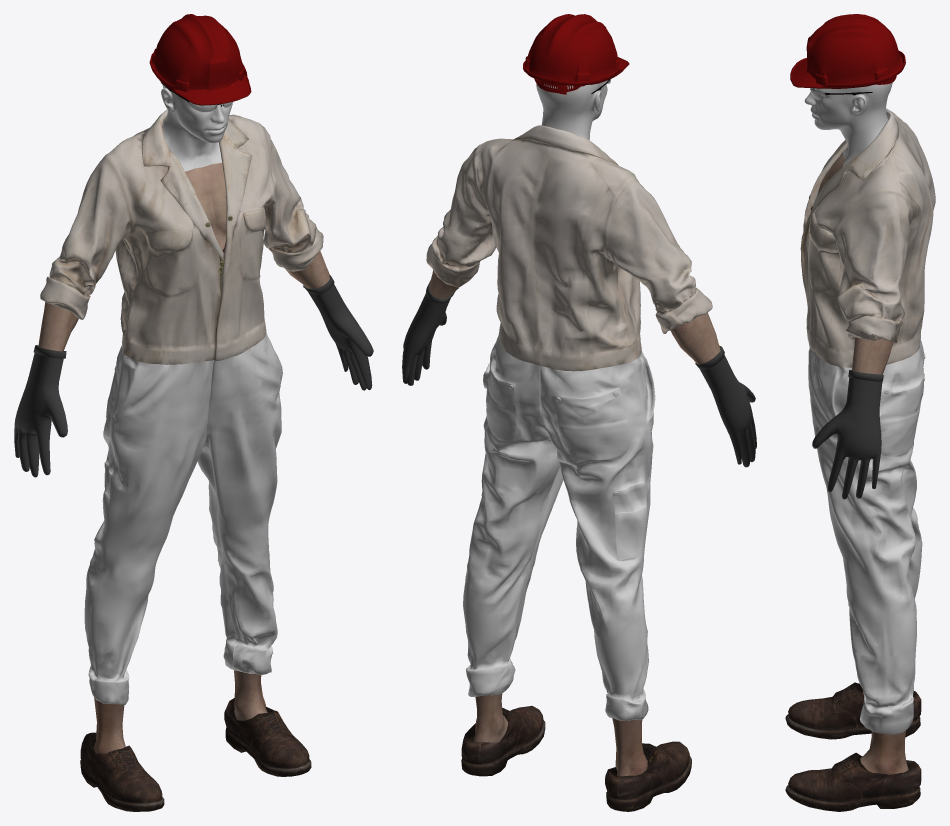
The model's file is jueyuanshoutao.fbx.
3 renders of one model, left to right at view 1: azimuth 30°, elevation 25°; view 2: azimuth 150°, elevation 25°; view 3: azimuth 270°, elevation 25°, orthographic.
Visible parts, largest first — view 1: polySurface16, polySurface13, xiezi, E003PLVE1, pCube5, polySurface23, pCube6, polySurface24, rdmobj05, polySurface21, rdmobj06, polySurface26; view 2: polySurface16, polySurface13, xiezi, E003PLVE1, pCube5, polySurface23, pCube6, rdmobj05, polySurface21, rdmobj06; view 3: polySurface16, polySurface13, xiezi, E003PLVE1, pCube6, polySurface23, rdmobj06, polySurface26.
Boxes of the visible parts, x1,y1,x2,y2 form: polySurface16: (84,332,282,704); polySurface13: (40,109,323,364); xiezi: (80,698,311,811); E003PLVE1: (149,14,251,105); pCube5: (14,345,67,477); polySurface23: (161,84,232,171); pCube6: (303,275,373,390); polySurface24: (185,162,226,250); rdmobj05: (93,697,125,753); polySurface21: (38,302,78,351); rdmobj06: (234,670,267,720); polySurface26: (285,251,329,288); polySurface16: (463,335,655,720); polySurface13: (426,125,712,371); xiezi: (461,706,691,811); E003PLVE1: (523,14,629,94); pCube5: (695,346,756,467); polySurface23: (536,80,607,140); pCube6: (402,280,454,385); rdmobj05: (612,718,647,776); polySurface21: (669,310,720,364); rdmobj06: (473,693,508,742); polySurface16: (808,340,925,734); polySurface13: (800,108,935,367); xiezi: (785,682,921,811); E003PLVE1: (790,14,905,88); pCube6: (812,370,883,499); polySurface23: (804,82,892,166); rdmobj06: (860,730,908,774); polySurface26: (852,337,893,374).
Bounding box in the file's own units: 139 × 293 × 53.15.
